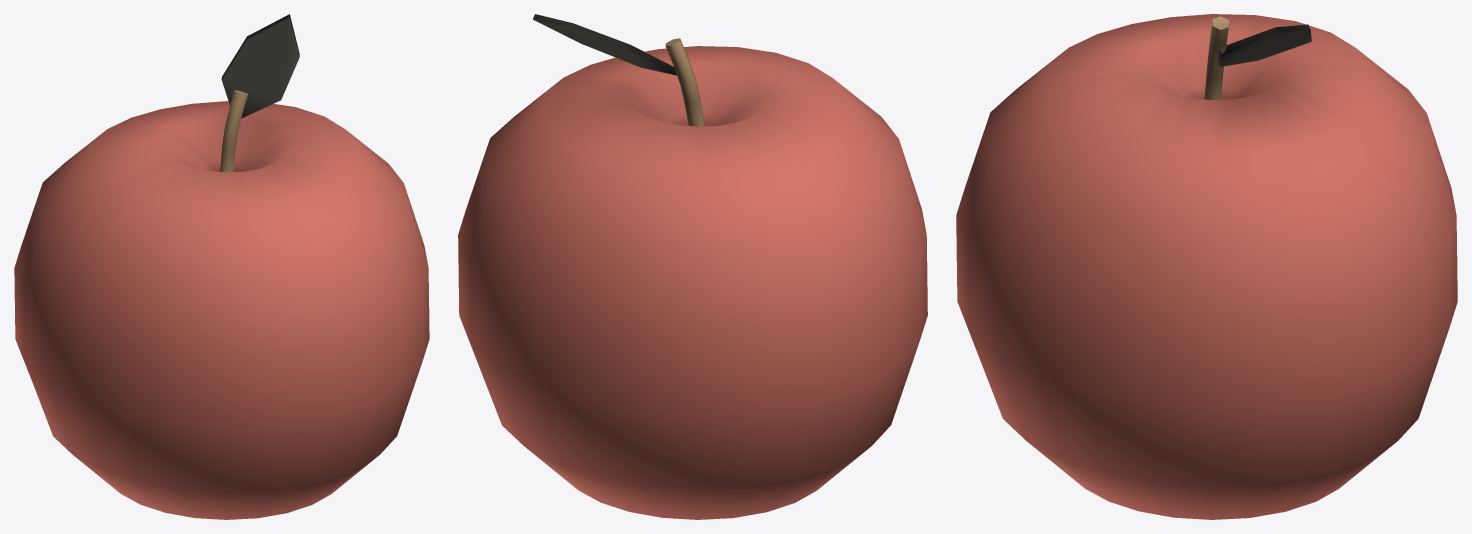
File: nd_apple.glb
3 renders of one model, left to right at view 1: azimuth 30°, elevation 25°; view 2: azimuth 150°, elevation 25°; view 3: azimuth 270°, elevation 25°, orthographic. The views are drawn at different scales.
Parts seen in each view (by area): view 1: PART; view 2: PART; view 3: PART.
Boxes of the visible parts, x1,y1,x2,y2 form: PART: (14, 14, 429, 519); PART: (458, 14, 927, 519); PART: (956, 14, 1457, 519).
Size of the model in its own units: 0.1161 by 0.1276 by 0.1163.
